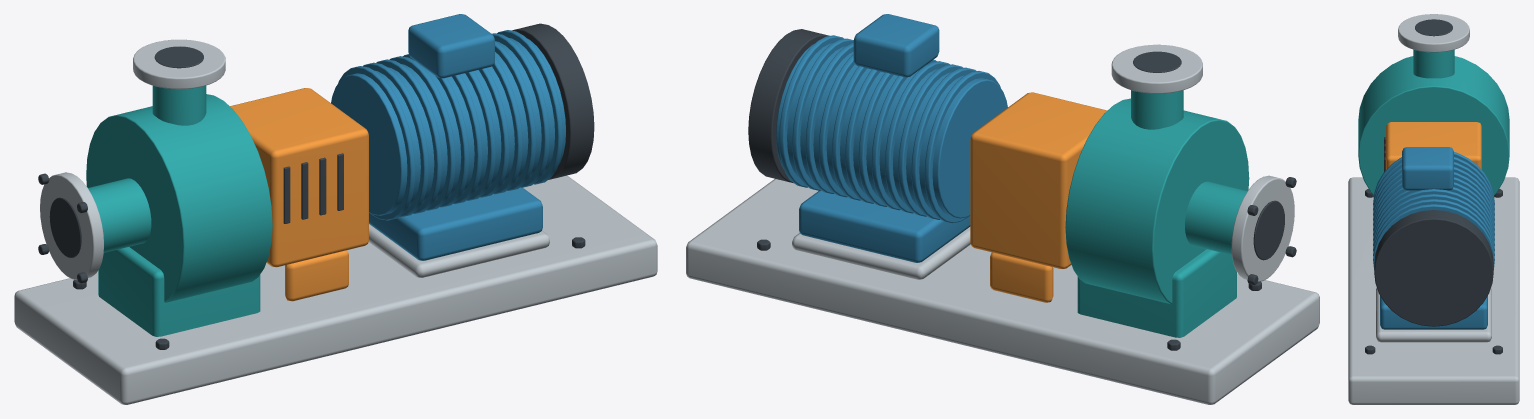
The model's file is pump.glb.
3 views of the same model, side by side, from view 1: azimuth 30°, elevation 25°; view 2: azimuth 150°, elevation 25°; view 3: azimuth 270°, elevation 25° (orthographic). The views are drawn at different scales.
Visible parts, largest first — view 1: Pump skid, Volute casing, Coupling guard, Motor casing, Pump pedestal, Motor foot, Fan cover, Terminal box, Suction flange, Suction neck, Motor mounting sole, Discharge flange (+16 smaller); view 2: Pump skid, Volute casing, Coupling guard, Motor casing, Pump pedestal, Motor foot, Fan cover, Terminal box, Suction flange, Suction neck, Motor mounting sole, Discharge flange (+16 smaller); view 3: Pump skid, Fan cover, Volute casing, Coupling guard, Terminal box, Motor mounting sole, Discharge flange, Motor foot, Discharge riser, Cooling fin.011, Cooling fin.008, Cooling fin.010 (+10 smaller).
Part boxes in pixels (box(x1,y1,x2,y2)): Pump skid: box(14, 175, 657, 404); Volute casing: box(86, 94, 272, 302); Coupling guard: box(230, 88, 368, 267); Motor casing: box(331, 38, 565, 215); Pump pedestal: box(98, 247, 260, 336); Motor foot: box(369, 187, 542, 260); Fan cover: box(512, 23, 594, 179); Terminal box: box(408, 14, 494, 78); Suction flange: box(40, 172, 103, 280); Suction neck: box(88, 178, 151, 252); Motor mounting sole: box(368, 224, 549, 277); Discharge flange: box(133, 39, 225, 89); Pump skid: box(686, 179, 1319, 404); Volute casing: box(1065, 98, 1249, 304); Coupling guard: box(970, 92, 1107, 269); Motor casing: box(776, 43, 1007, 218); Pump pedestal: box(1077, 249, 1236, 337); Motor foot: box(799, 190, 970, 262); Fan cover: box(748, 29, 829, 183); Terminal box: box(853, 14, 939, 77); Suction flange: box(1231, 175, 1294, 281); Suction neck: box(1185, 181, 1247, 254); Motor mounting sole: box(792, 227, 970, 279); Discharge flange: box(1111, 44, 1202, 93); Pump skid: box(1348, 177, 1519, 404); Fan cover: box(1374, 210, 1493, 326); Volute casing: box(1358, 56, 1509, 195); Coupling guard: box(1386, 122, 1481, 169); Terminal box: box(1402, 147, 1453, 190); Motor mounting sole: box(1376, 288, 1491, 342); Discharge flange: box(1398, 14, 1469, 52); Motor foot: box(1380, 296, 1487, 329); Discharge riser: box(1413, 49, 1454, 78); Cooling fin.011: box(1373, 204, 1494, 269); Cooling fin.008: box(1373, 189, 1494, 245); Cooling fin.010: box(1373, 199, 1494, 255).
Bounding box in the file's own units: 1.2 × 0.5975 × 0.4236.
